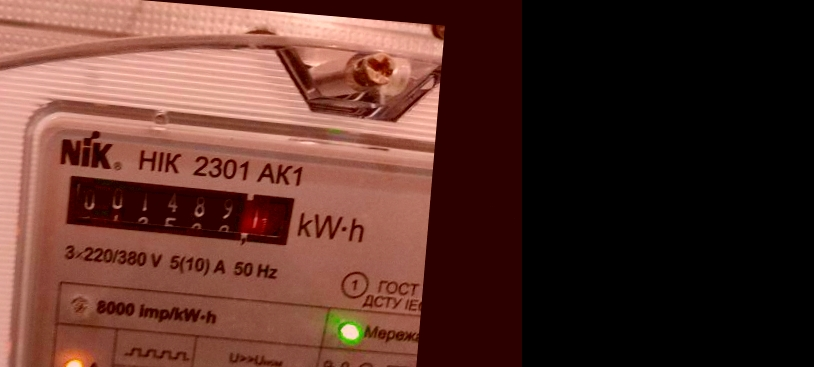0: (80, 185, 98, 211), (108, 183, 126, 209)
1: (136, 184, 153, 214), (247, 200, 262, 230)
4: (163, 187, 182, 215)
8: (189, 190, 208, 218)
9: (218, 194, 235, 220)
screen: (49, 162, 310, 259)
